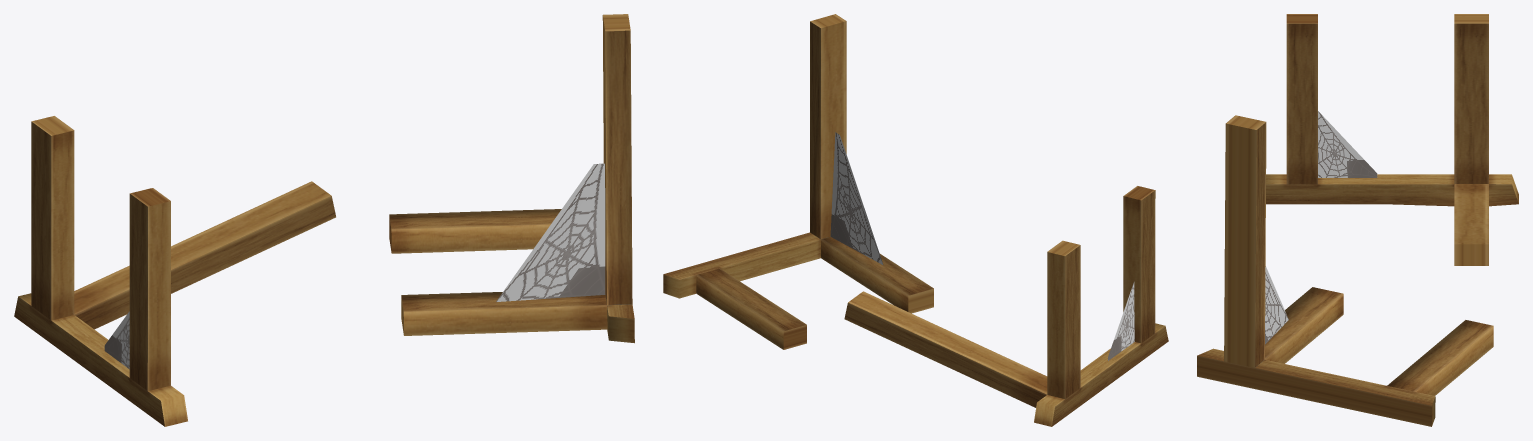
File: a_SWGdesk03b04.glb
3 renders of one model, left to right at view 1: azimuth 30°, elevation 25°; view 2: azimuth 150°, elevation 25°; view 3: azimuth 270°, elevation 25°, orthographic. The views are drawn at different scales.
Visible parts, largest first — view 1: a_SWGdesk03b04; view 2: a_SWGdesk03b04; view 3: a_SWGdesk03b04.
Part boxes in pixels (left/top/right/bottom): a_SWGdesk03b04: left=14, top=14, right=634, bottom=426; a_SWGdesk03b04: left=663, top=14, right=1168, bottom=426; a_SWGdesk03b04: left=1197, top=14, right=1518, bottom=426.
Bounding box in the file's own units: 1.81 × 0.9398 × 1.05.
2 materials, 2 textured.
